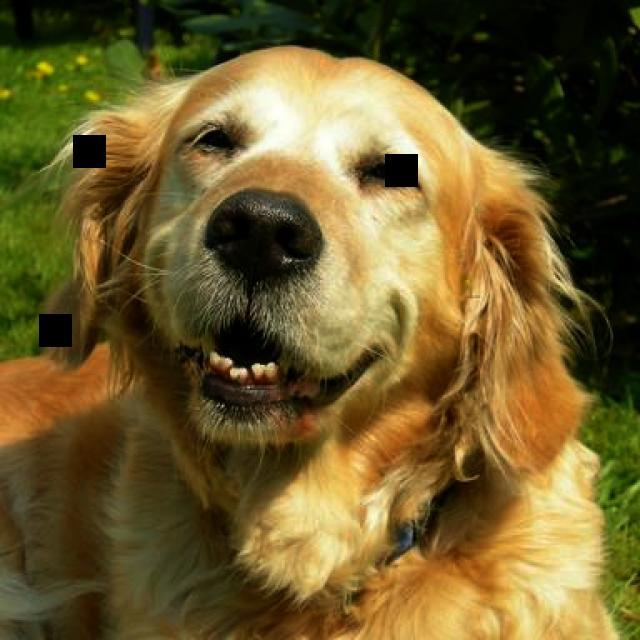adult_dog: (1, 48, 632, 640)
